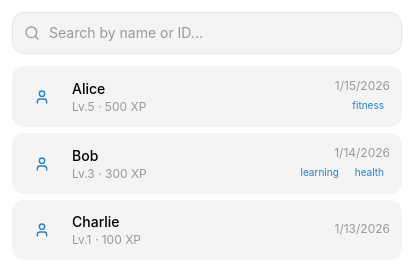
it: AdminUserList › search filters users by name
expect the text "Alice" is shown: met, box [72,80,105,96]
Step 1. Type "Bob" into the field with placeholder "Search by name or ID..." → (207, 33), box [12,12,402,54]
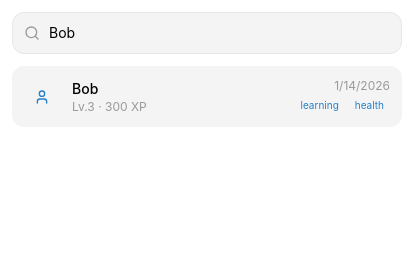
expect the text "Bob" is shown: met, box [72,80,98,96]
expect the button "Alice" is gone: met
expect the button "Charlie" is gone: met
